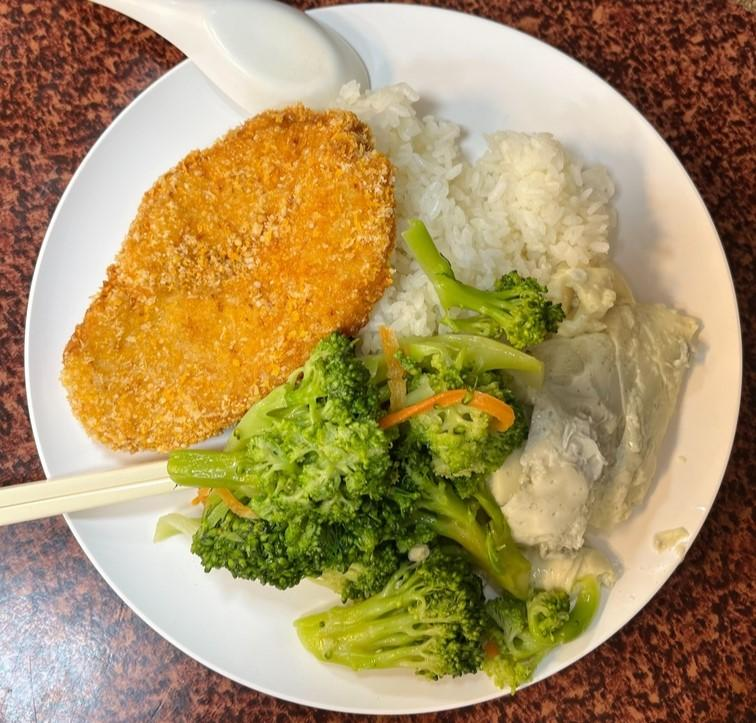big fried chicken leg: (25, 5, 756, 723)
big herbal chicken leg: (342, 85, 623, 330)
braised fish fillet: (171, 227, 570, 688), (496, 290, 700, 550)
braised pork: (61, 100, 402, 458)
